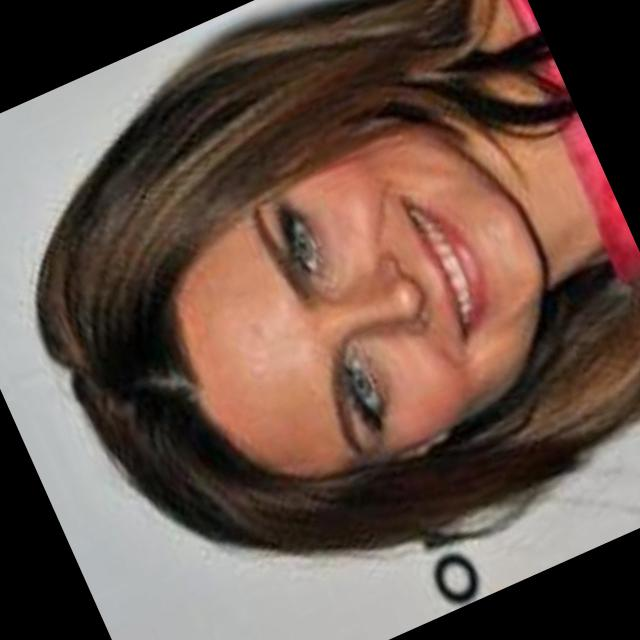bareface: (48, 88, 598, 597)
